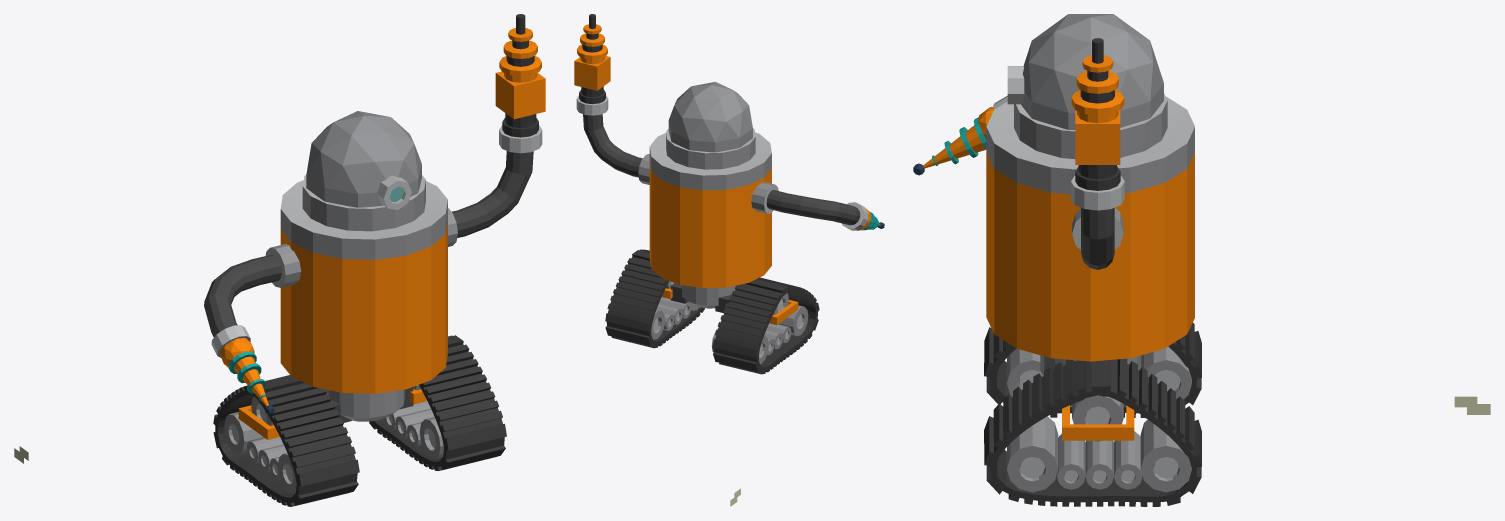
Rendered from Robot.fbx.
3 views of the same model, side by side, from view 1: azimuth 30°, elevation 25°; view 2: azimuth 150°, elevation 25°; view 3: azimuth 270°, elevation 25° (orthographic). The views are drawn at different scales.
Visible parts, largest first — view 1: Circle.059_11, Cube.129_8, Icosphere_28, BezierCurve.005_9, BezierCurve.006_10, Circle.064_16, Circle.063_15, Circle.066_18, Cube.130_25, Circle.065_17, Circle.061_13, Circle.060_12 (+2 smaller); view 2: Circle.059_11, Cube.129_8, Icosphere_28, BezierCurve.006_10, BezierCurve.005_9, Circle.064_16, Circle.063_15, Circle.066_18, Cube.130_25, Circle.061_13, Circle.065_17, Cube.168_26 (+1 smaller); view 3: Circle.059_11, Cube.129_8, Icosphere_28, Circle.063_15, Circle.064_16, Circle.066_18, Circle.065_17, Cube.130_25, BezierCurve.005_9, Cube.168_26, Circle.062_14, Cone_24 (+1 smaller).
Boxes of the visible parts, bbox=[...] form: Circle.059_11: bbox=[280, 175, 447, 421]; Cube.129_8: bbox=[213, 335, 506, 506]; Icosphere_28: bbox=[306, 111, 421, 207]; BezierCurve.005_9: bbox=[452, 151, 533, 237]; BezierCurve.006_10: bbox=[204, 254, 281, 337]; Circle.064_16: bbox=[246, 401, 434, 480]; Circle.063_15: bbox=[224, 412, 443, 493]; Circle.066_18: bbox=[499, 14, 541, 82]; Cube.130_25: bbox=[495, 71, 545, 119]; Circle.065_17: bbox=[499, 113, 542, 153]; Circle.061_13: bbox=[265, 208, 457, 287]; Circle.060_12: bbox=[377, 175, 411, 209]; Circle.059_11: bbox=[649, 128, 771, 308]; Cube.129_8: bbox=[605, 249, 819, 374]; Icosphere_28: bbox=[668, 81, 752, 152]; BezierCurve.006_10: bbox=[766, 190, 860, 225]; BezierCurve.005_9: bbox=[583, 114, 642, 177]; Circle.064_16: bbox=[657, 297, 791, 355]; Circle.063_15: bbox=[651, 302, 808, 364]; Circle.066_18: bbox=[577, 14, 607, 64]; Cube.130_25: bbox=[574, 56, 610, 90]; Circle.061_13: bbox=[638, 154, 778, 213]; Circle.065_17: bbox=[576, 86, 608, 115]; Cube.168_26: bbox=[619, 281, 798, 324]; Circle.059_11: bbox=[986, 93, 1194, 375]; Cube.129_8: bbox=[984, 322, 1201, 506]; Icosphere_28: bbox=[1021, 14, 1163, 129]; Circle.063_15: bbox=[1007, 346, 1191, 492]; Circle.064_16: bbox=[1057, 405, 1142, 489]; Circle.066_18: bbox=[1071, 38, 1124, 123]; Circle.065_17: bbox=[1071, 165, 1124, 210]; Cube.130_25: bbox=[1075, 110, 1120, 164]; BezierCurve.005_9: bbox=[1081, 207, 1114, 269]; Cube.168_26: bbox=[1062, 405, 1134, 440]; Circle.062_14: bbox=[1072, 395, 1123, 441]; Cone_24: bbox=[923, 125, 985, 168].
Size of the model in its own units: 78.1 by 96.2 by 86.12.
